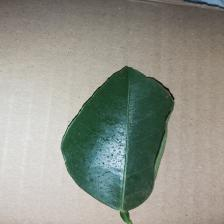healthy: (87, 72, 154, 224)
